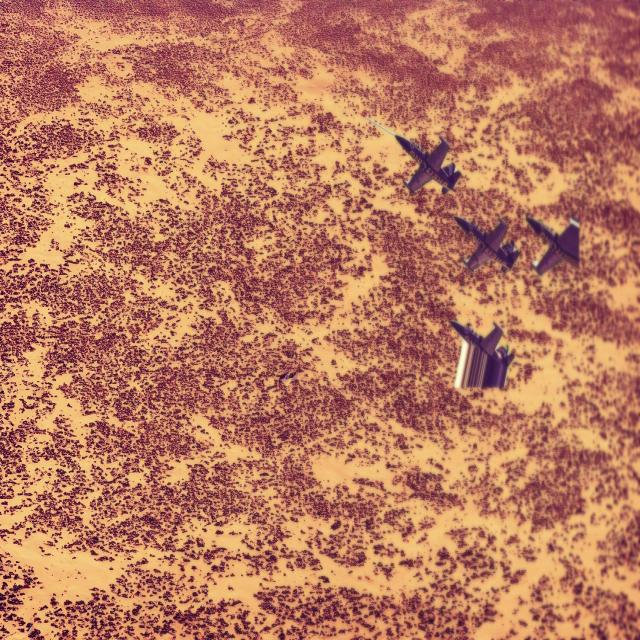airplane: (367, 115, 461, 196), (450, 319, 514, 390), (454, 215, 520, 272), (526, 212, 580, 276)
